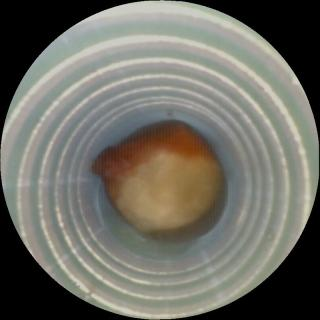stone: (99, 127, 221, 233)
